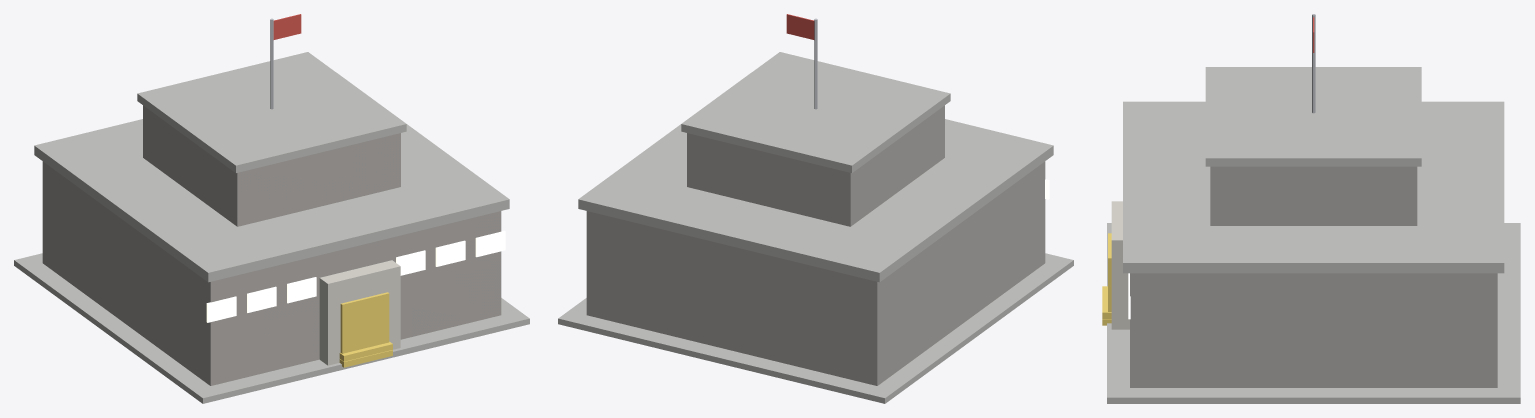
Rendered from fort_knox.glb.
The picture shows the model from 3 angles, left to right: view 1: azimuth 30°, elevation 25°; view 2: azimuth 150°, elevation 25°; view 3: azimuth 270°, elevation 25°; orthographic projection. The views are drawn at different scales.
Parts seen in each view (by area): view 1: fort_knox; view 2: fort_knox; view 3: fort_knox.
Boxes of the visible parts, x1,y1,x2,y2 form: fort_knox: (14, 14, 529, 403); fort_knox: (558, 14, 1073, 403); fort_knox: (1102, 14, 1520, 403).
Size of the model in its own units: 18 by 14.5 by 18.2.
